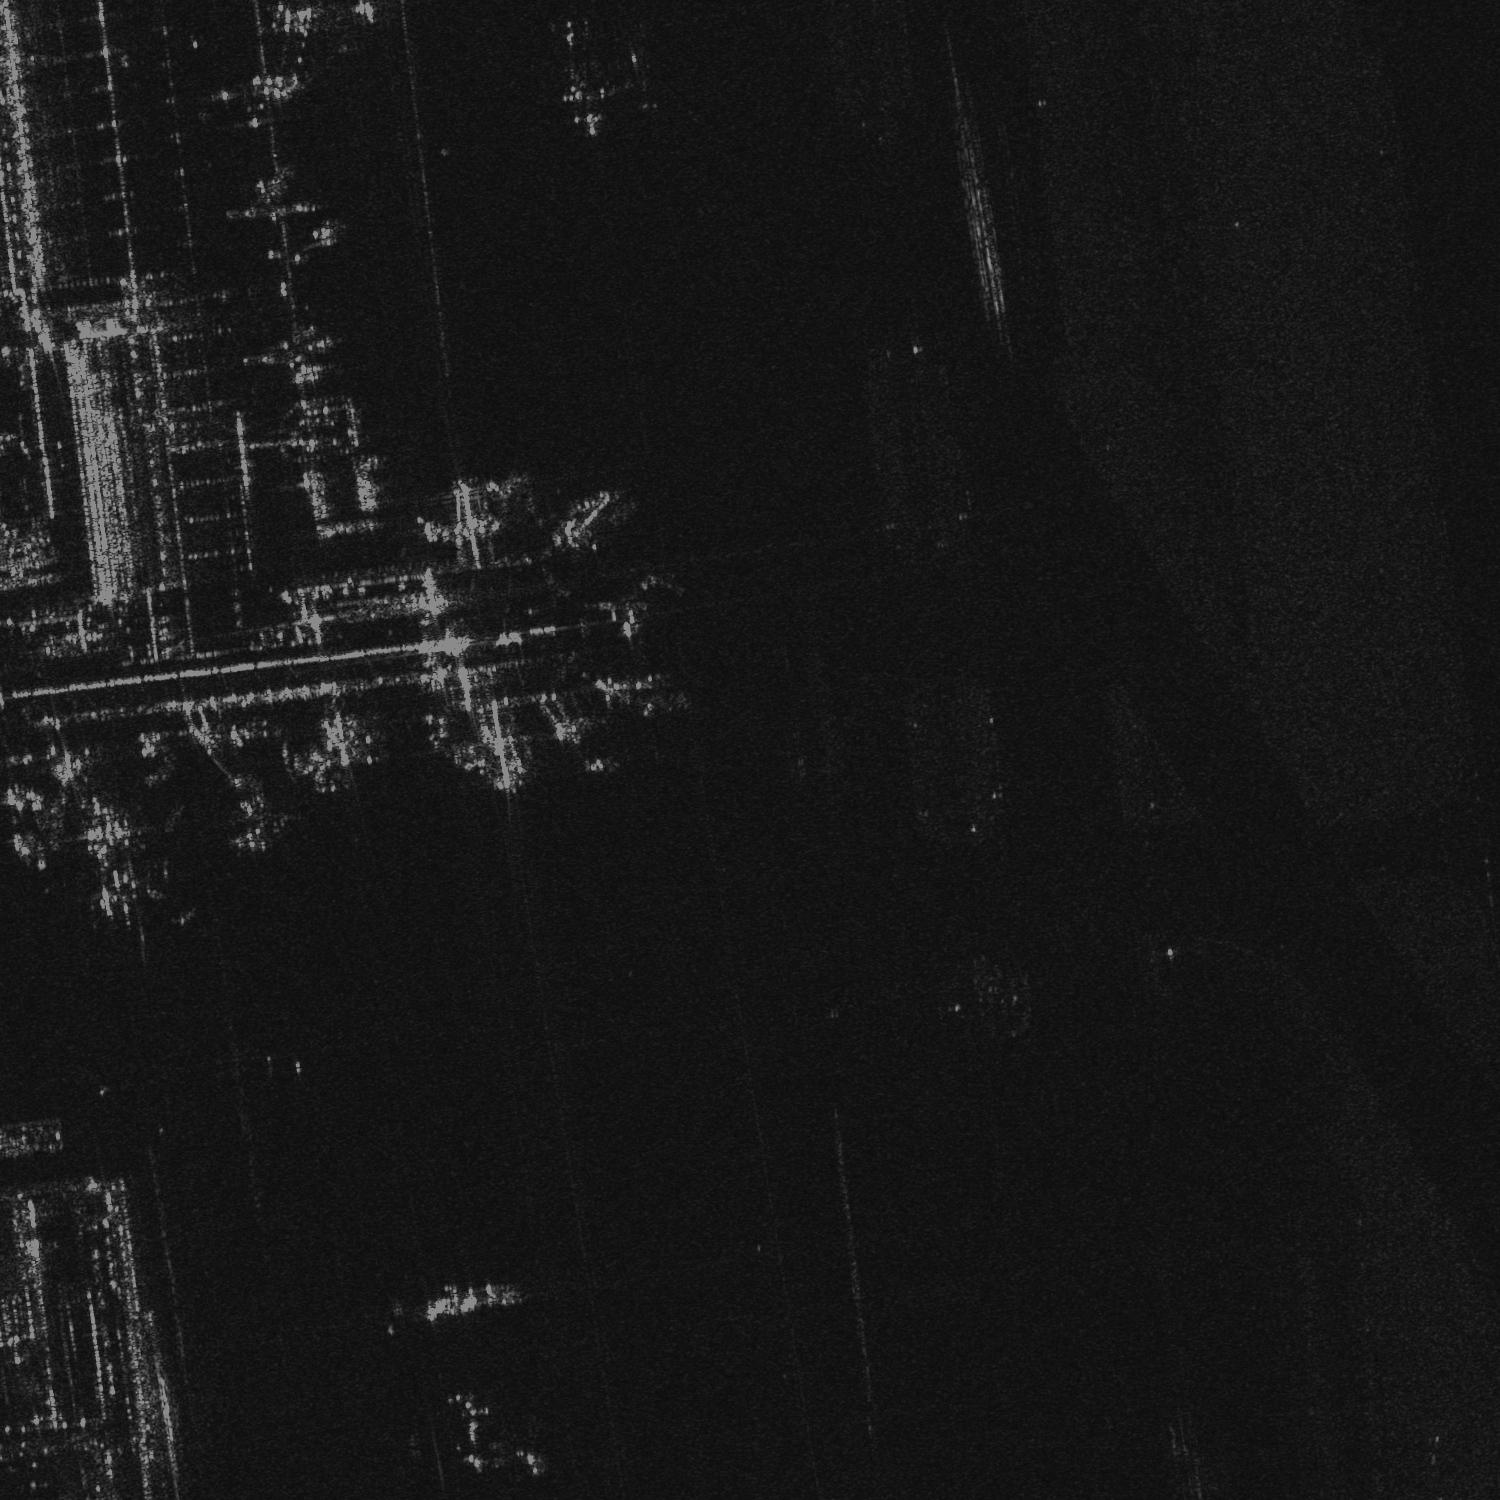Boeing787: (544, 40, 637, 144)
